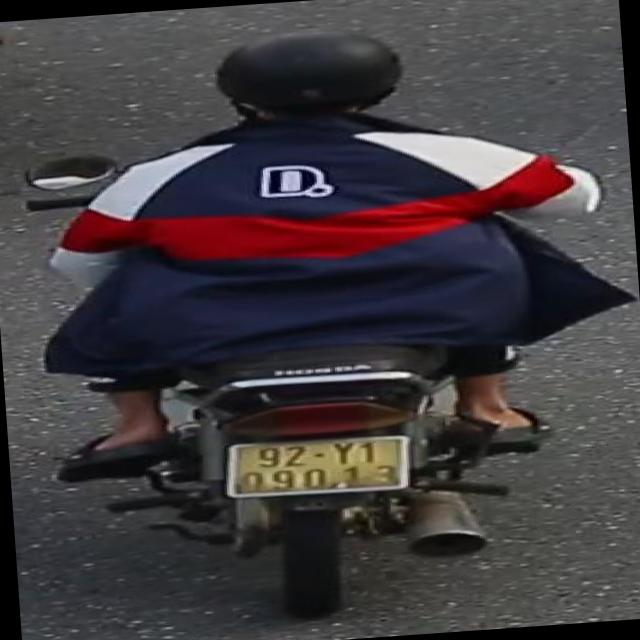LP: (211, 422, 435, 506)
helmet: (204, 26, 412, 130)
